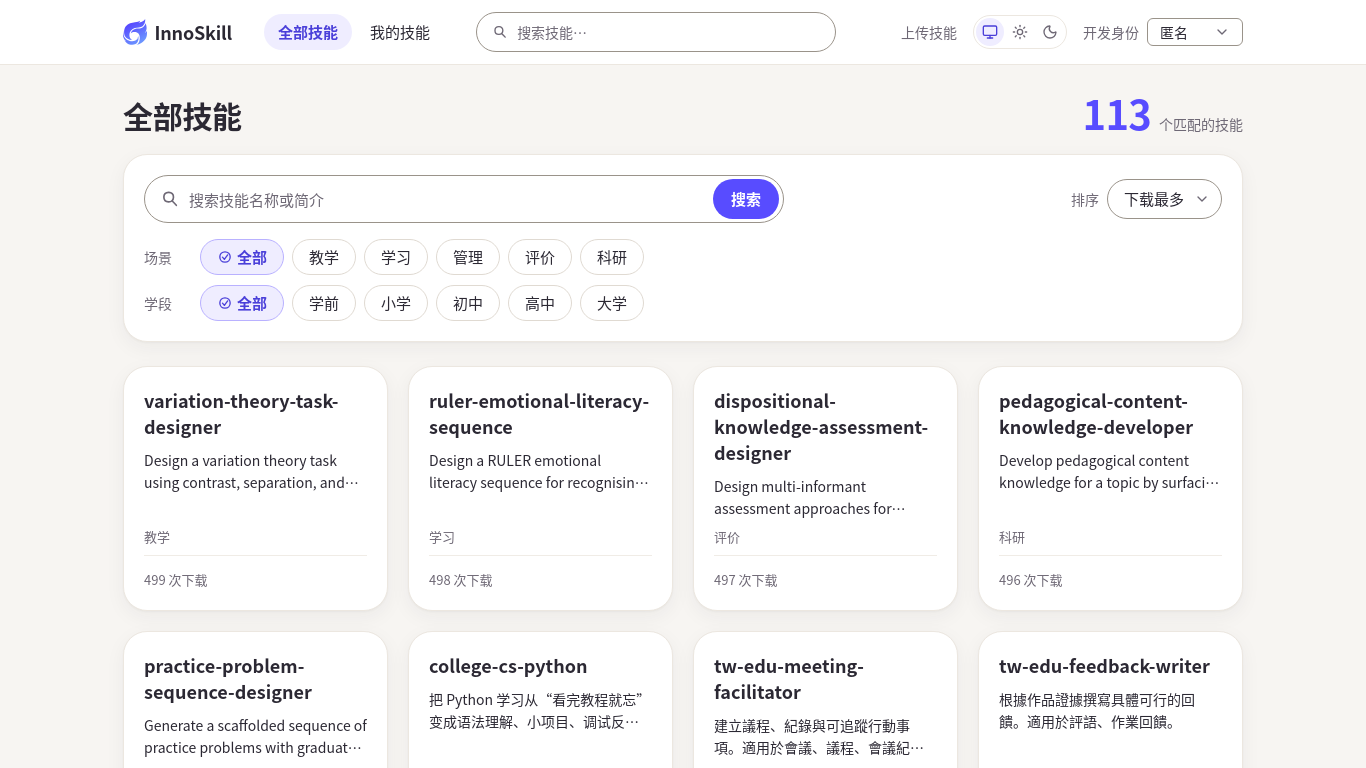
Scenario: 搜索页 › 关键词写进 URL，只列出命中的技能
Expected: the text "113" is shown, [1083,93,1151,133]
Type "rubric" into the field named "关键词".
click(447, 199); type("rubric")  # box [189,179,705,219]
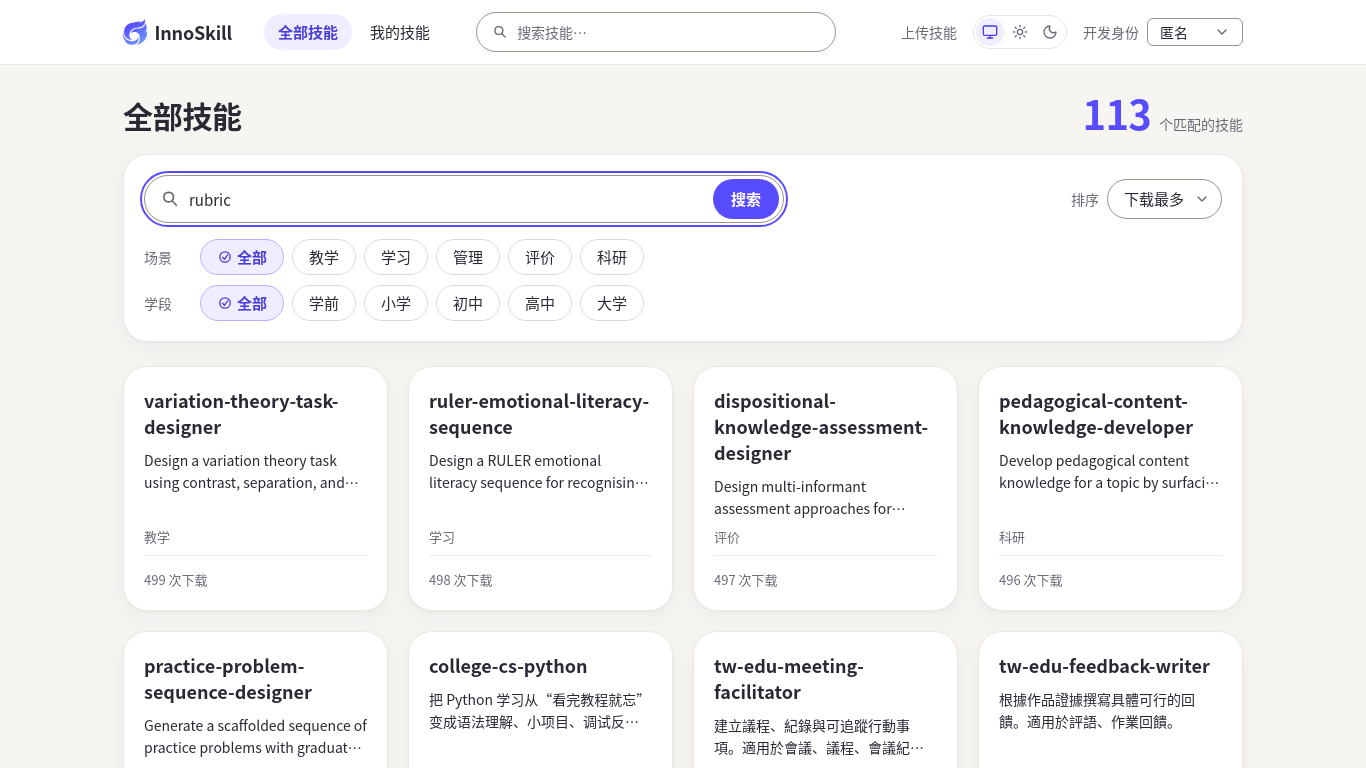
Click the button "搜索".
click(746, 199)  # box [713,179,779,219]
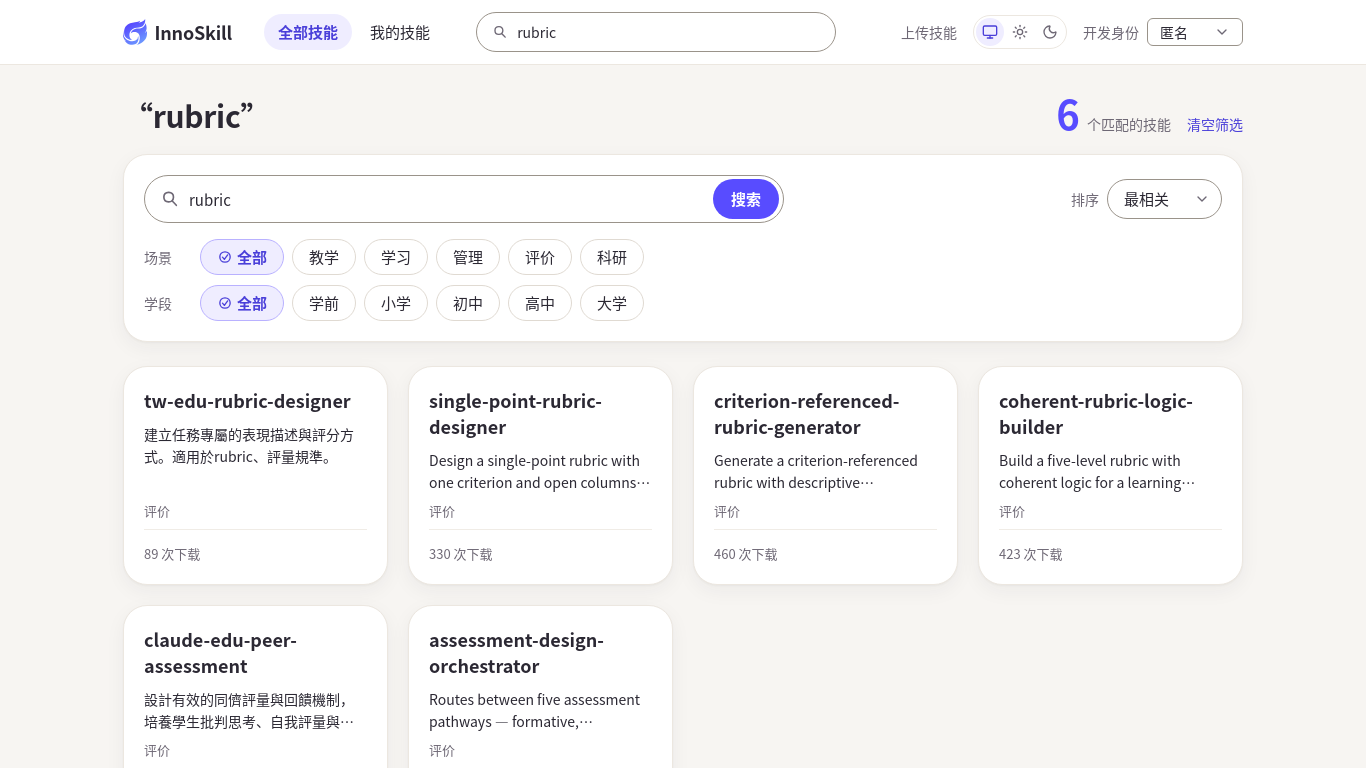
Expected: the link "single-point-rubric-designer" is shown, [429,387,602,439]
Expected: the heading "“rubric”" is shown, [123,96,270,134]
